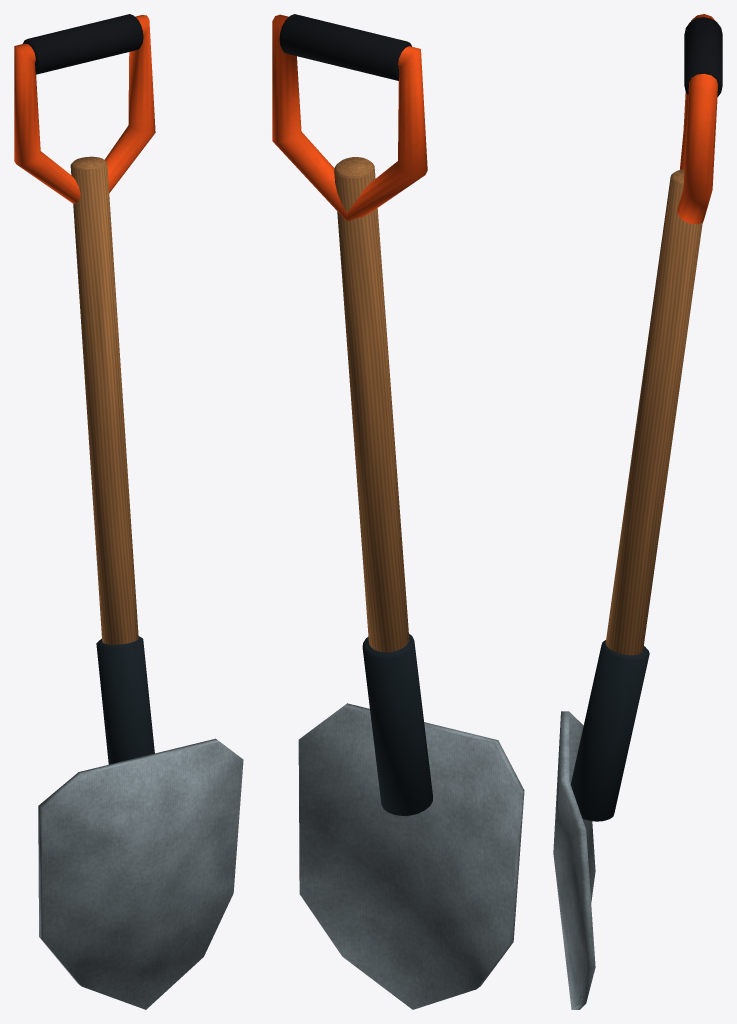
The model's file is CSE_Shovel.fbx.
3 renders of one model, left to right at view 1: azimuth 30°, elevation 25°; view 2: azimuth 150°, elevation 25°; view 3: azimuth 270°, elevation 25°, orthographic. The views are drawn at different scales.
Visible parts, largest first — view 1: CSE_Shovel; view 2: CSE_Shovel; view 3: CSE_Shovel.
Part boxes in pixels (<box>): CSE_Shovel: <box>14,14,243,1009</box>; CSE_Shovel: <box>272,14,524,1009</box>; CSE_Shovel: <box>553,14,722,1009</box>.
Bounding box in the file's own units: 26.4 × 117 × 18.6.
